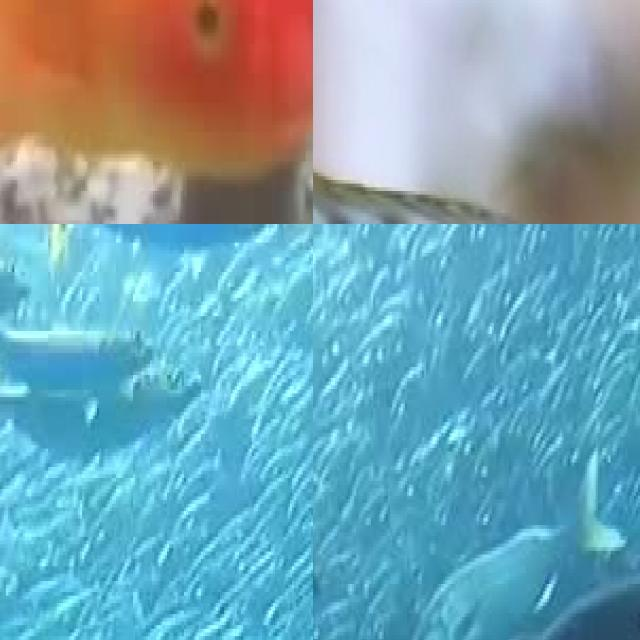fish: (0, 0, 313, 224), (313, 58, 640, 224)
